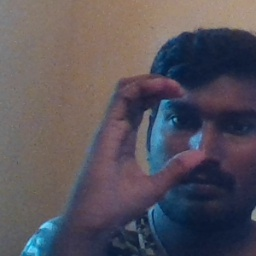C: (105, 62, 210, 197)
